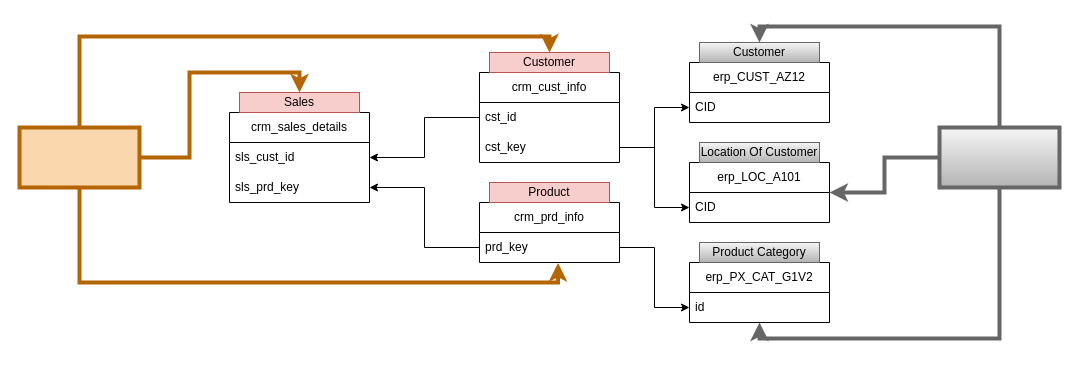
Some shapes in this 1078 by 365 pixel diagram are drawn without their labels. The centre of each missing label's shape, as x and y in pixels:
"CRM" goes at point 79,157.
"ERP" goes at point 999,157.
